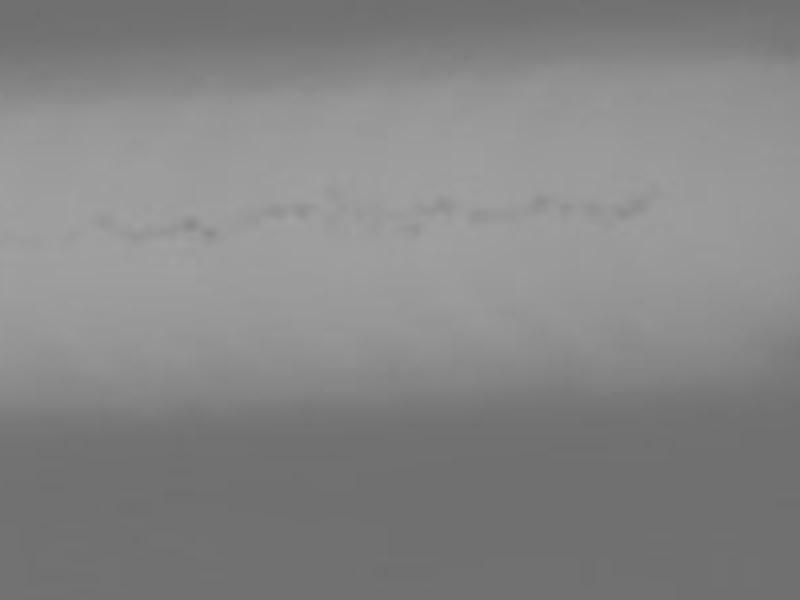defect: (464, 204, 523, 222), (117, 223, 165, 240), (612, 198, 646, 221), (424, 194, 456, 216), (289, 200, 314, 221), (268, 200, 289, 221), (529, 190, 547, 213), (406, 218, 425, 238), (642, 175, 660, 194), (584, 203, 603, 219), (182, 215, 200, 230), (557, 199, 572, 216), (202, 228, 219, 242)
